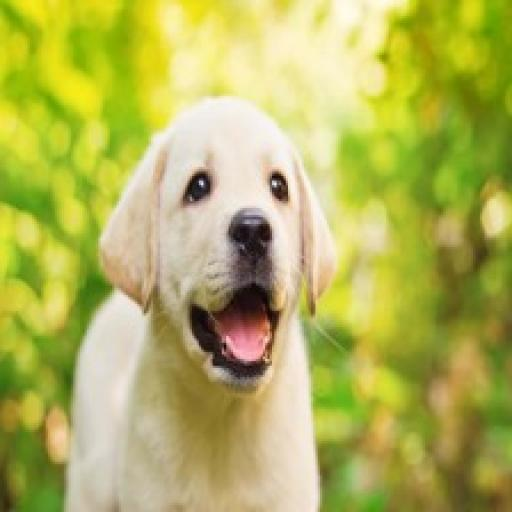dog: (57, 98, 343, 512)
